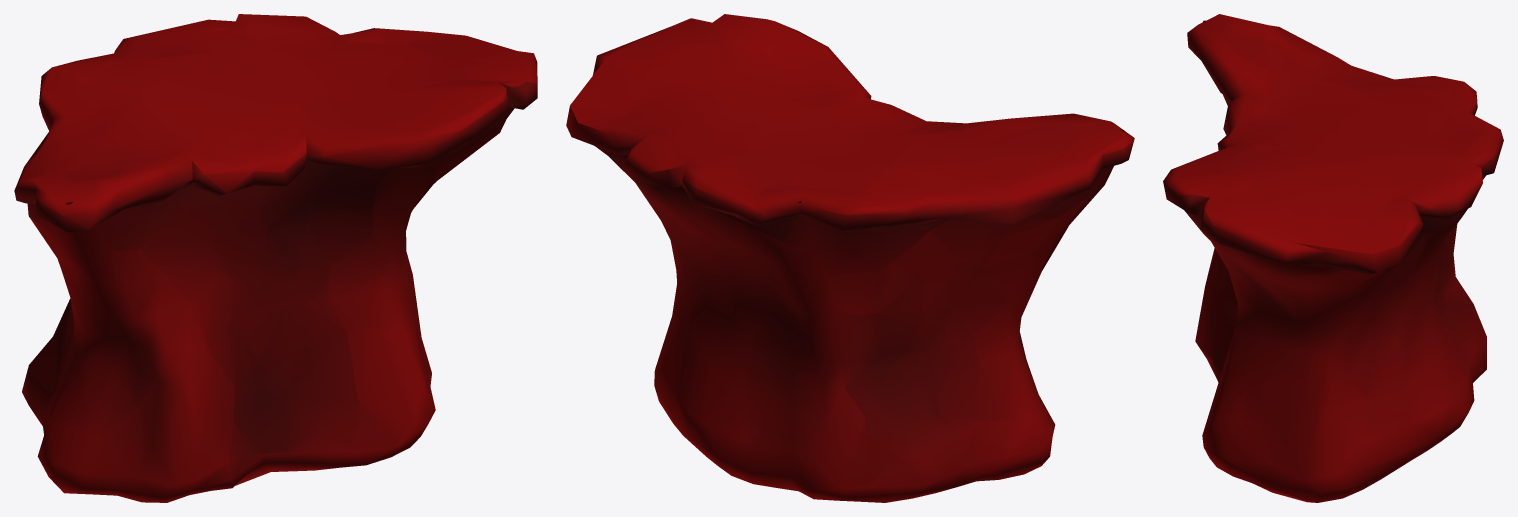
File: env_siderock_medium03_lod1.fbx
3 renders of one model, left to right at view 1: azimuth 30°, elevation 25°; view 2: azimuth 150°, elevation 25°; view 3: azimuth 270°, elevation 25°, orthographic. The views are drawn at different scales.
Visible parts, largest first — view 1: env_siderock_medium03_lod1; view 2: env_siderock_medium03_lod1; view 3: env_siderock_medium03_lod1.
Part boxes in pixels (x1,y1,x2,y2): env_siderock_medium03_lod1: (14, 14, 537, 502); env_siderock_medium03_lod1: (566, 14, 1134, 502); env_siderock_medium03_lod1: (1163, 14, 1503, 502).
Bounding box in the file's own units: 107 × 70.67 × 67.06.
